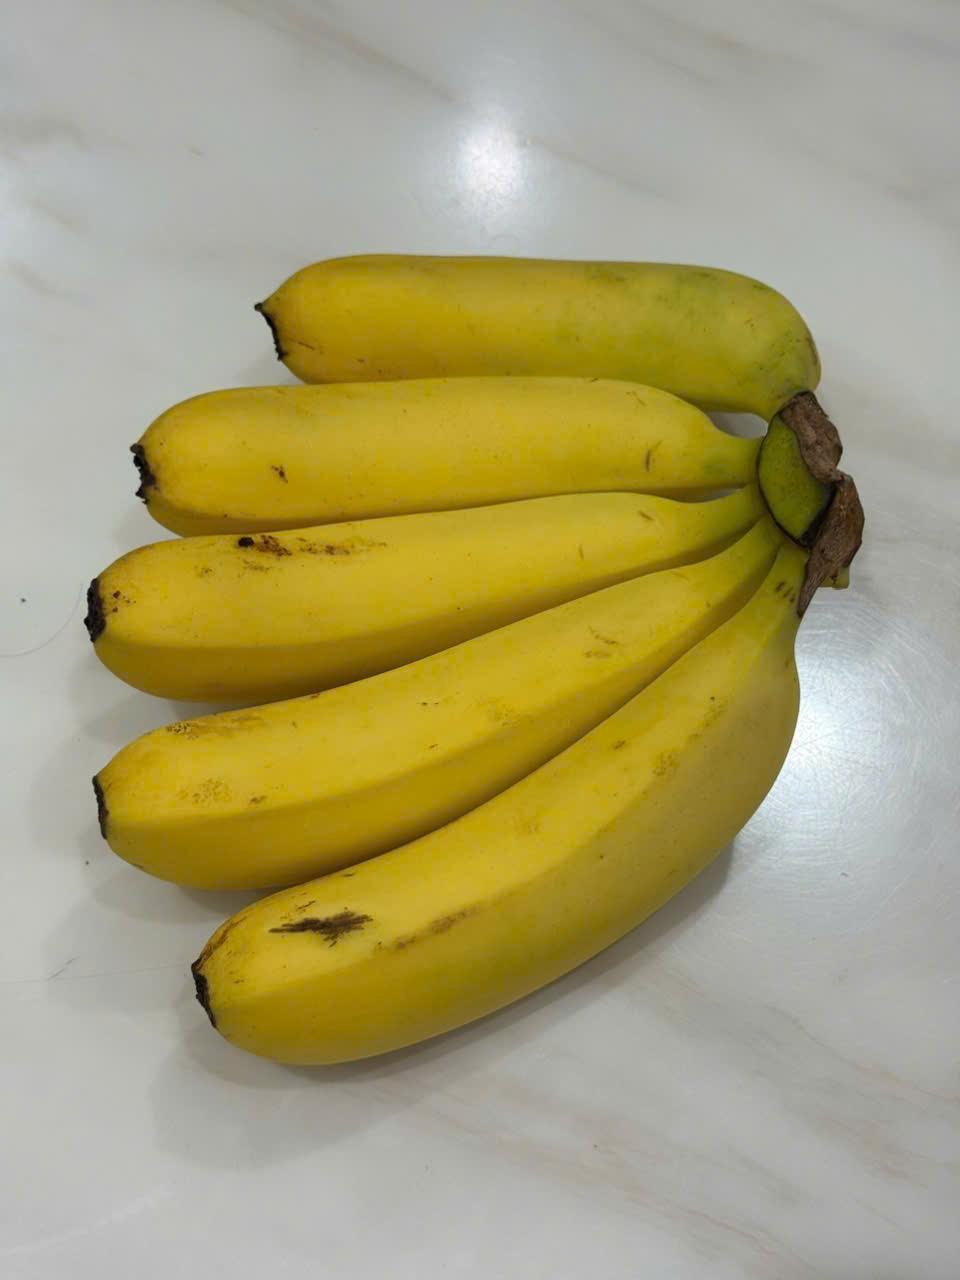banana: (28, 200, 908, 1082)
